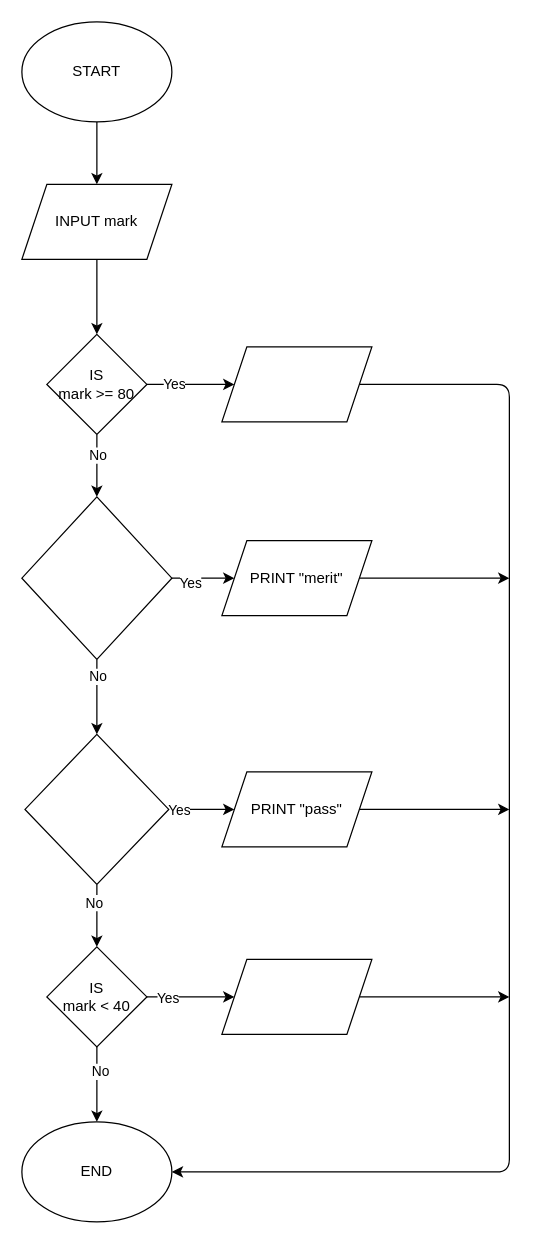
Image size: 541x1244. Some labels were removed from this diagram. The centre of each missing label's shape, as x and y in pixels:
IS mark >= 40 AND mark < 60: (96,808)
IS mark >= 60 AND mark < 80: (96,577)
PRINT "distinction": (296,384)
PRINT "fail": (296,996)
